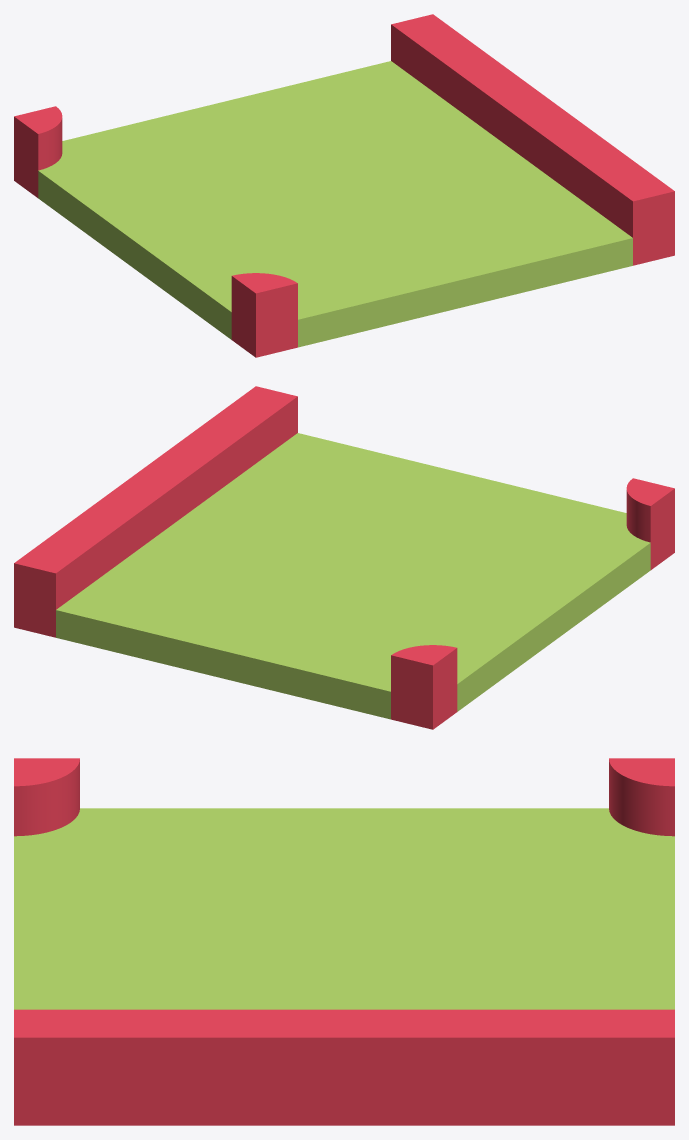
File: splitT.fbx
3 views of the same model, one above another, from view 1: azimuth 30°, elevation 25°; view 2: azimuth 150°, elevation 25°; view 3: azimuth 270°, elevation 25° (orthographic). The views are drawn at different scales.
Visible parts, largest first — view 1: splitT; view 2: splitT; view 3: splitT.
Part boxes in pixels (x1,y1,x2,y2): splitT: (14, 14, 674, 357); splitT: (14, 386, 674, 729); splitT: (14, 758, 674, 1125).
Bounding box in the file's own units: 10 × 1.47 × 10.
